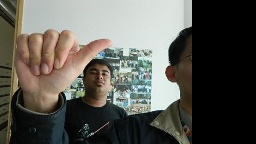Pugno: (8, 28, 115, 101)
